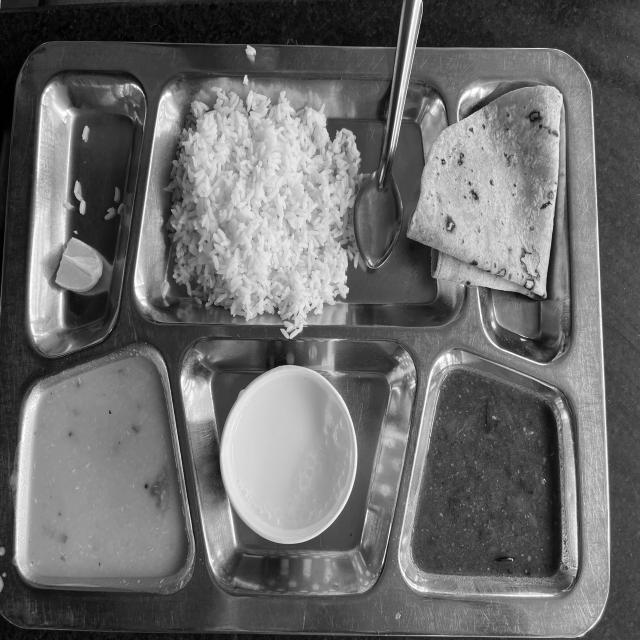70.11- Food Left: (12, 59, 594, 602)
